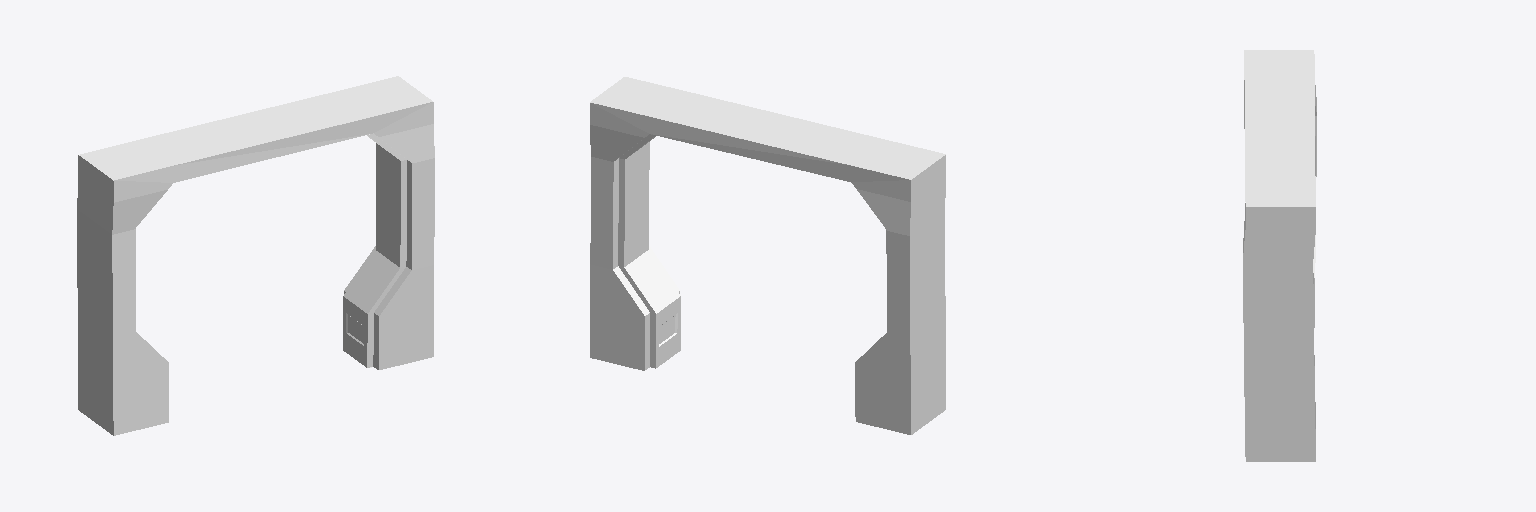
Rendered from interior_pillar.obj.
The picture shows the model from 3 angles: view 1: azimuth 30°, elevation 25°; view 2: azimuth 150°, elevation 25°; view 3: azimuth 270°, elevation 25°; orthographic projection.
Visible parts, largest first — view 1: Plane.005_Plane.017; view 2: Plane.005_Plane.017; view 3: Plane.005_Plane.017.
Boxes of the visible parts, box(x1,y1,x2,y2) form: Plane.005_Plane.017: box(77, 76, 434, 435); Plane.005_Plane.017: box(590, 77, 945, 434); Plane.005_Plane.017: box(1243, 50, 1316, 461).
Bounding box in the file's own units: 5.26 × 4 × 1.06.